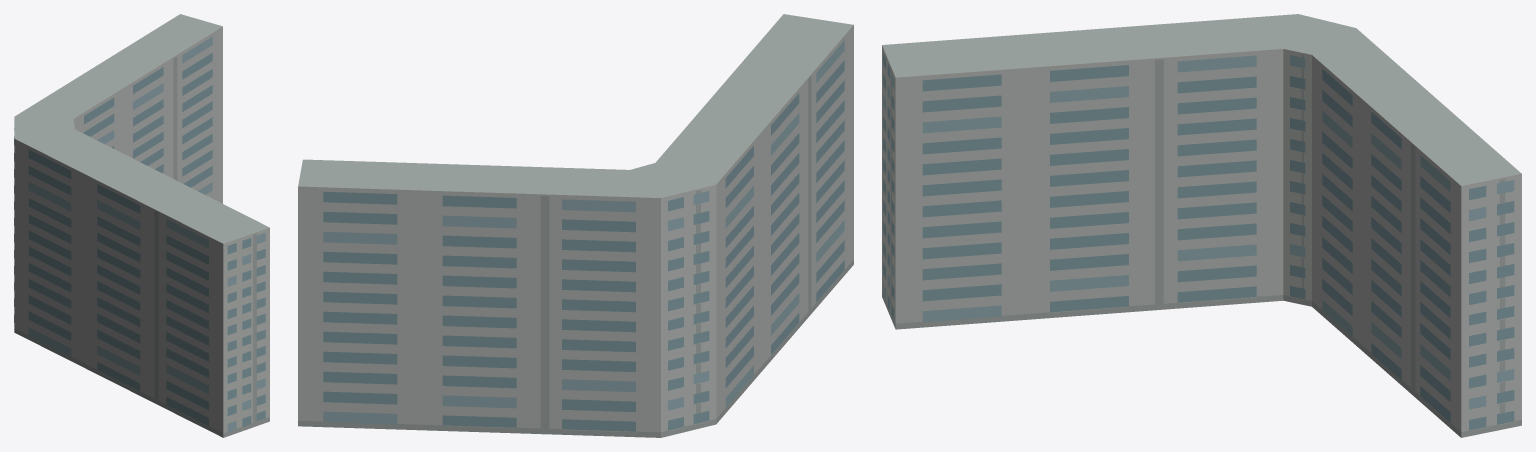
The model's file is residential-4e0655c9-2667-4644-8094-ad2ac7ef495a.glb.
The picture shows the model from 3 angles, left to right: view 1: azimuth 30°, elevation 25°; view 2: azimuth 150°, elevation 25°; view 3: azimuth 270°, elevation 25°; orthographic projection. The views are drawn at different scales.
Visible parts, largest first — view 1: residential-4e0655c9-2667-4644-8094-ad2ac7ef495a.tmp; view 2: residential-4e0655c9-2667-4644-8094-ad2ac7ef495a.tmp; view 3: residential-4e0655c9-2667-4644-8094-ad2ac7ef495a.tmp.
Boxes of the visible parts, x1,y1,x2,y2 form: residential-4e0655c9-2667-4644-8094-ad2ac7ef495a.tmp: (14, 14, 269, 437); residential-4e0655c9-2667-4644-8094-ad2ac7ef495a.tmp: (298, 14, 853, 437); residential-4e0655c9-2667-4644-8094-ad2ac7ef495a.tmp: (882, 14, 1521, 437).
Size of the model in its own units: 53.64 by 36.6 by 84.28.
